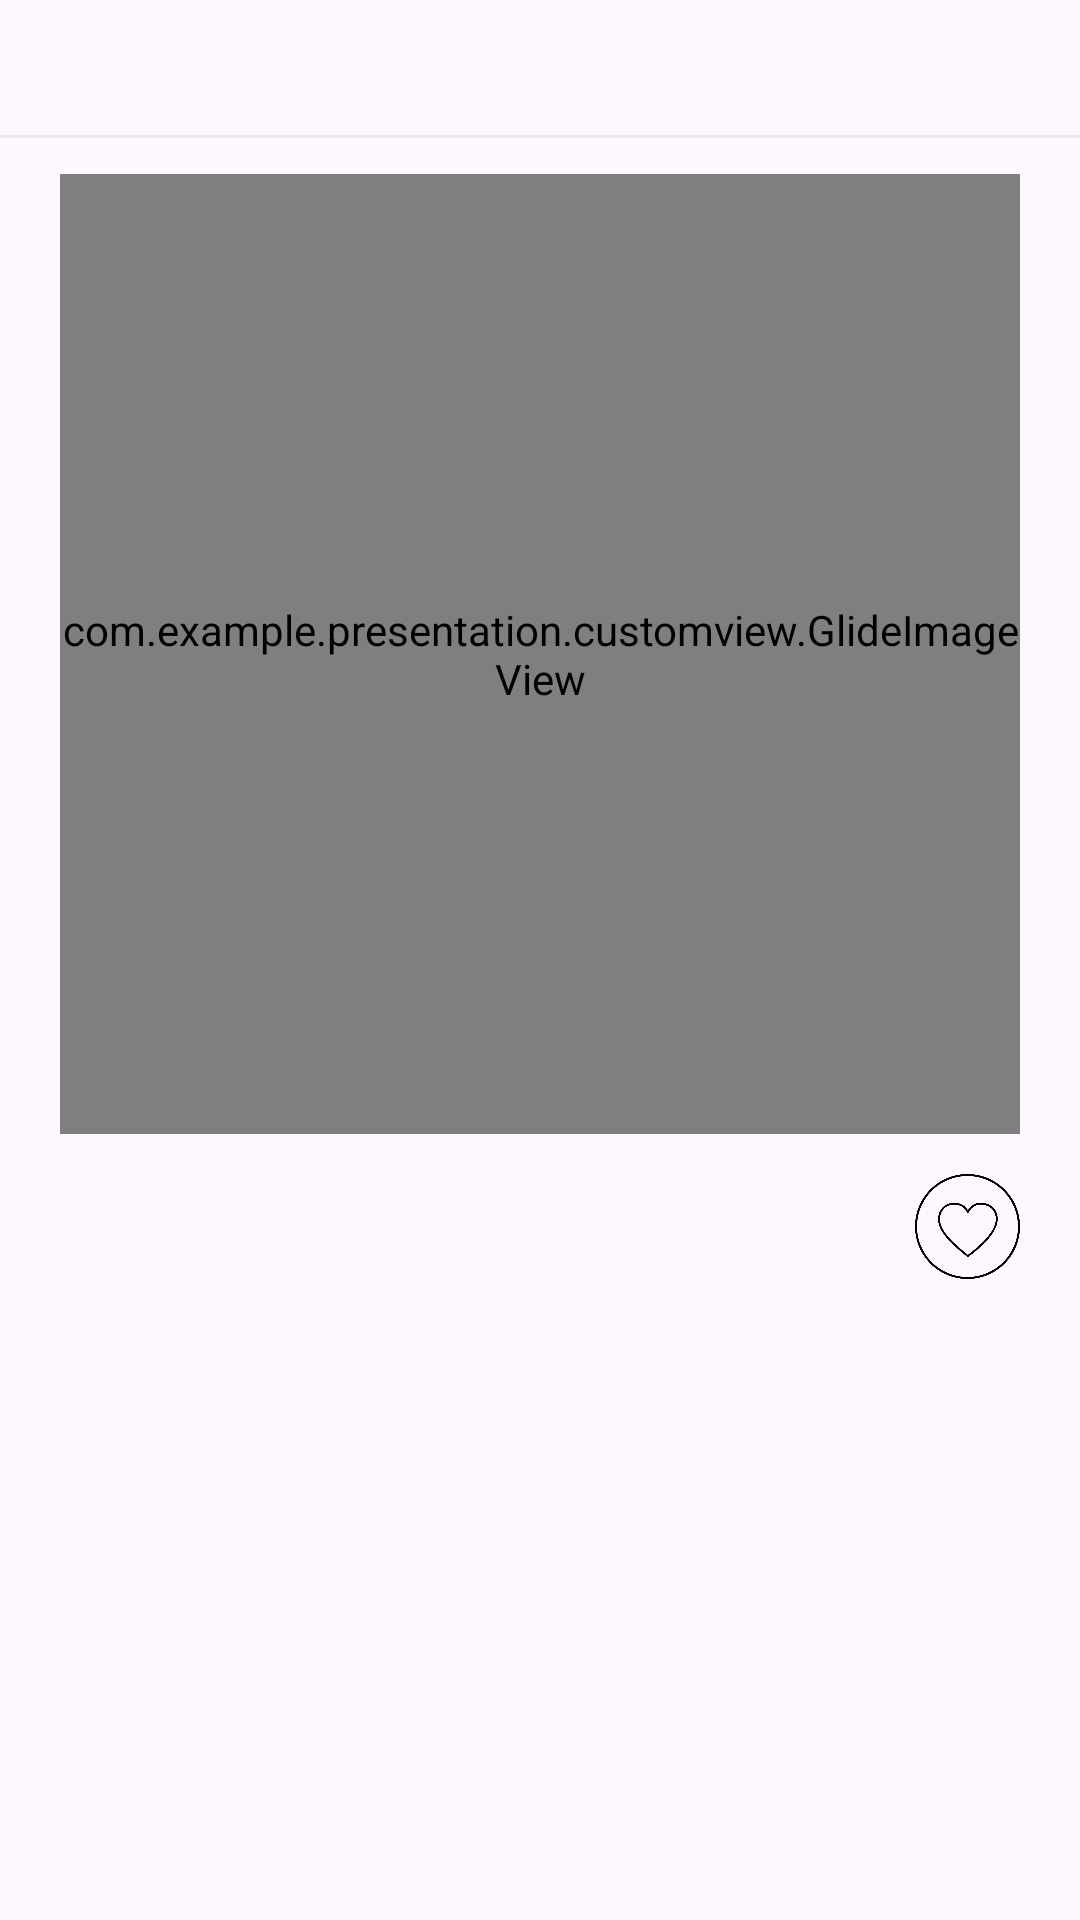

Named icons in this screenshot (1080x1920) and their centers, point (x, y):
un like: point (967, 1226)
